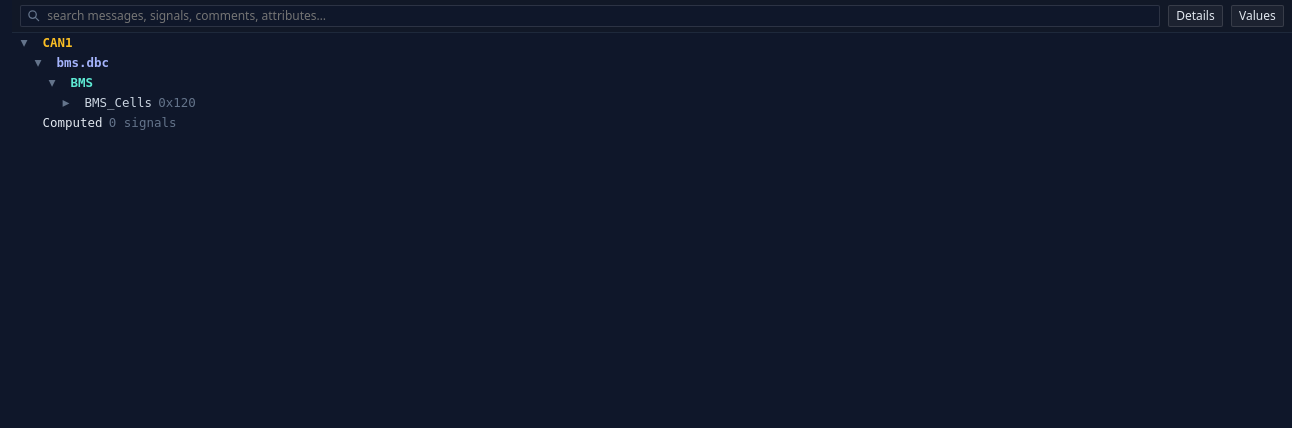
Test: creating one › materializes the definition at once and expands its editor in place
Expected: the text "Computed" is shown, [42,115,102,130]
Right-click the element with class "dbc-panel-tree" at [57, 43], box [12,34,196,130]
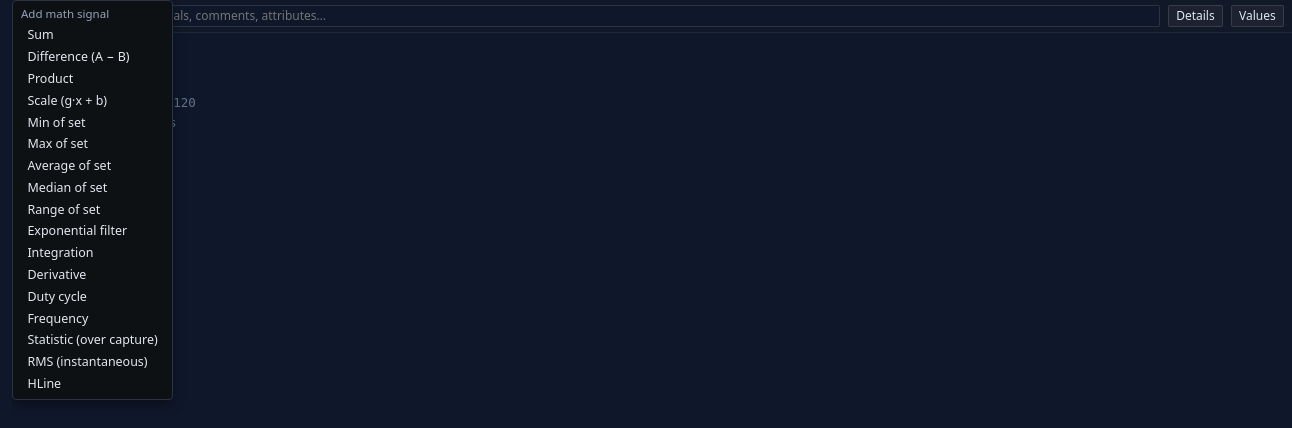
Click the menu item "Difference (A − B)" at [93, 57], box [21,46,164,68]
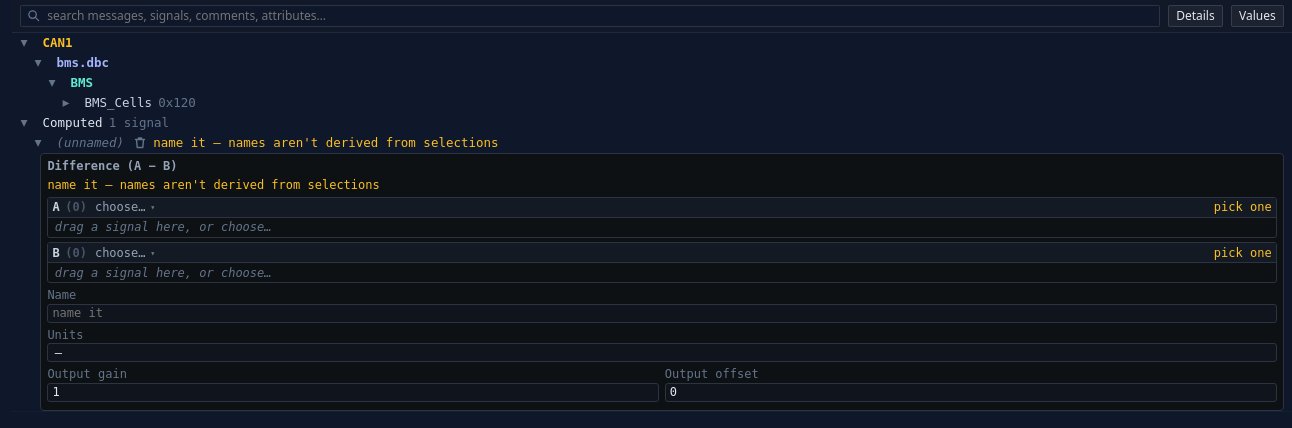
Result: the element that starts with "Difference (A − B)" is shown at [40,153,1284,411]
Result: the element named "A operands" is shown at [47,197,1277,238]
